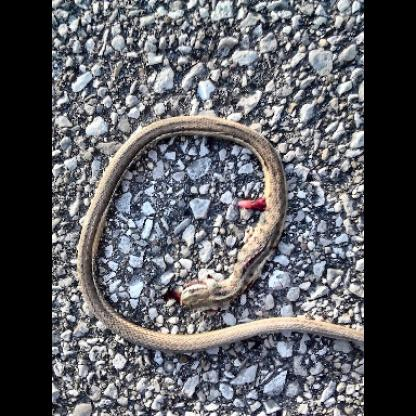Snake: (70, 105, 342, 412)
